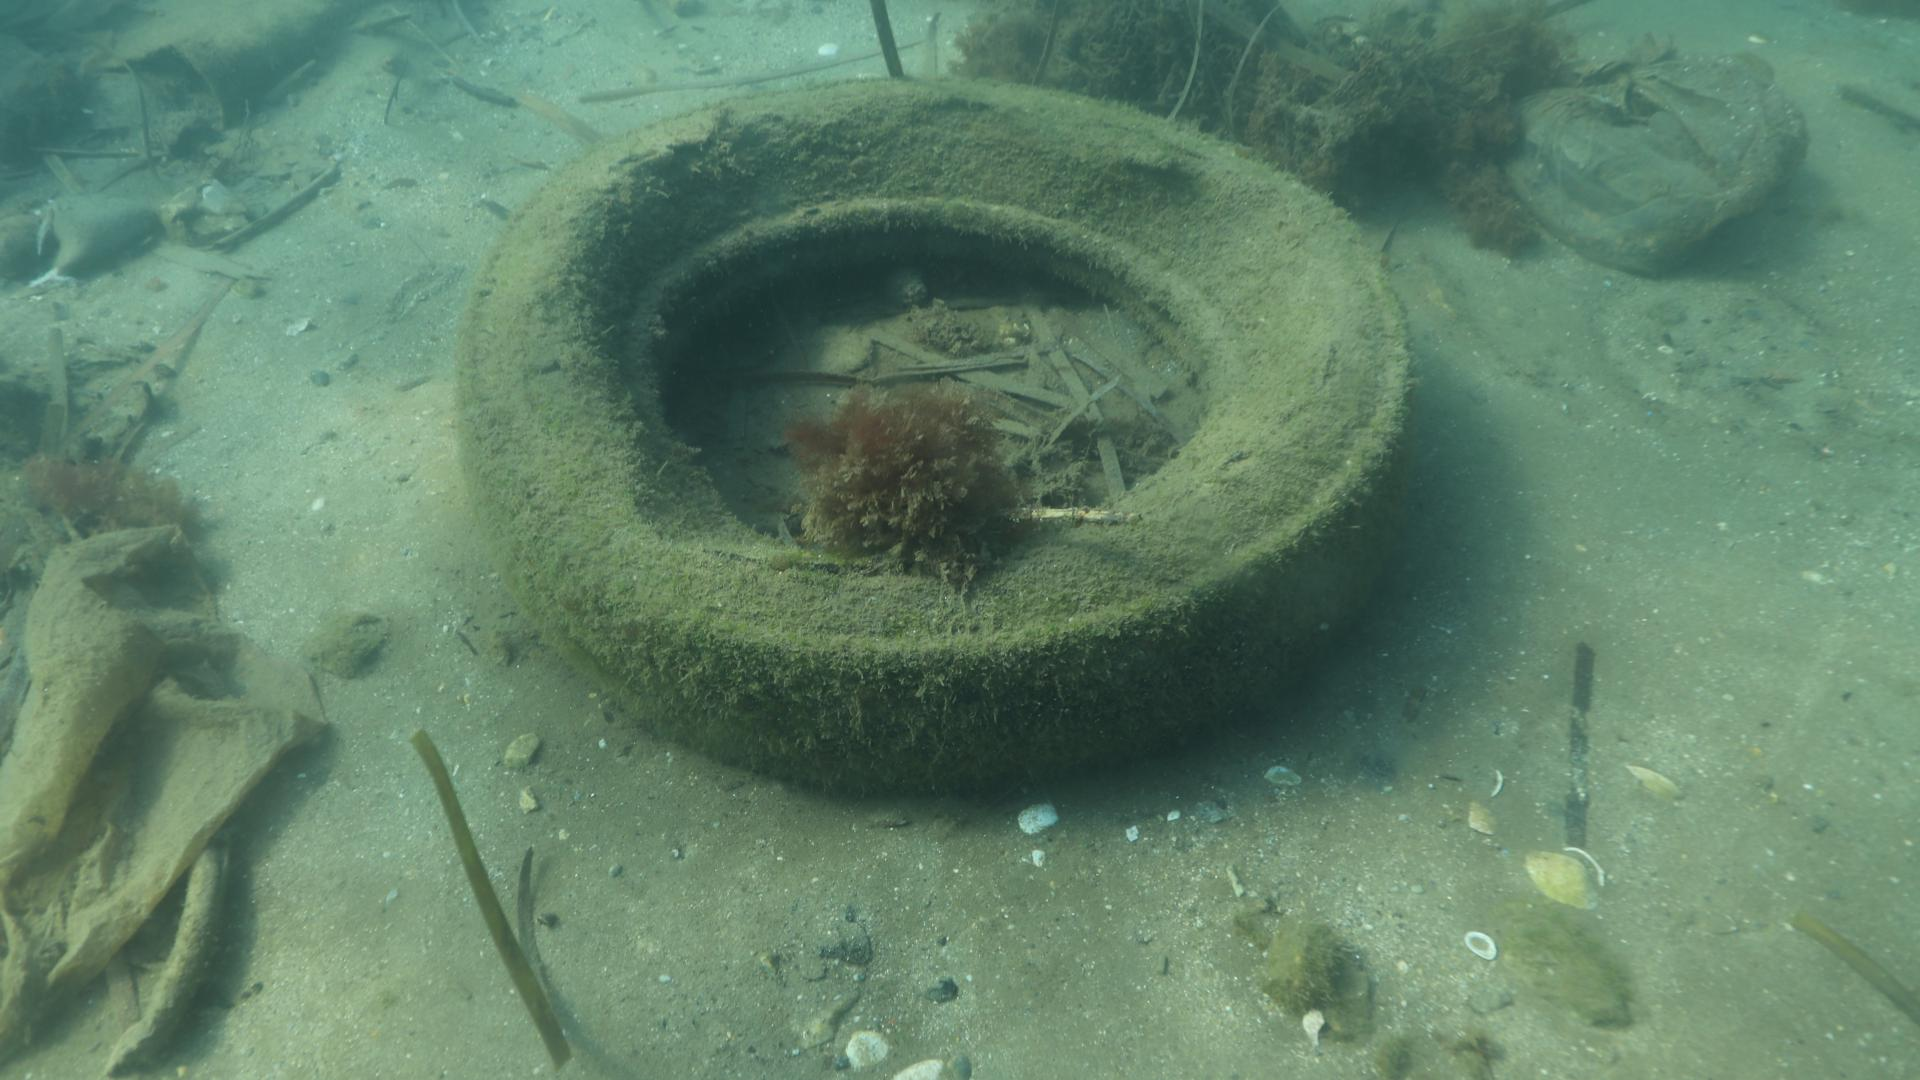tire: (451, 70, 1418, 802)
